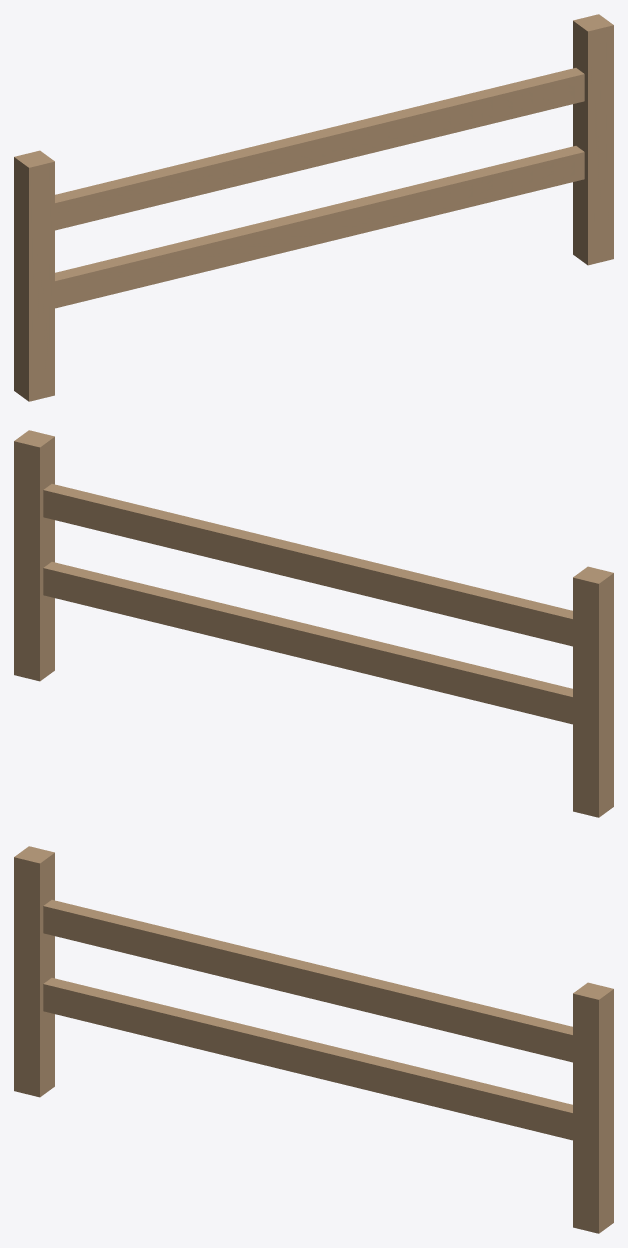
Rendered from fence.glb.
The picture shows the model from 3 angles, top to bottom: view 1: azimuth 30°, elevation 25°; view 2: azimuth 150°, elevation 25°; view 3: azimuth 330°, elevation 25°; orthographic projection.
Parts seen in each view (by area): view 1: fence; view 2: fence; view 3: fence.
Part boxes in pixels (bbox=[...]): fence: bbox=[14, 14, 613, 401]; fence: bbox=[14, 430, 613, 817]; fence: bbox=[14, 846, 613, 1233].
Bounding box in the file's own units: 3.14 × 1.2 × 0.14.
